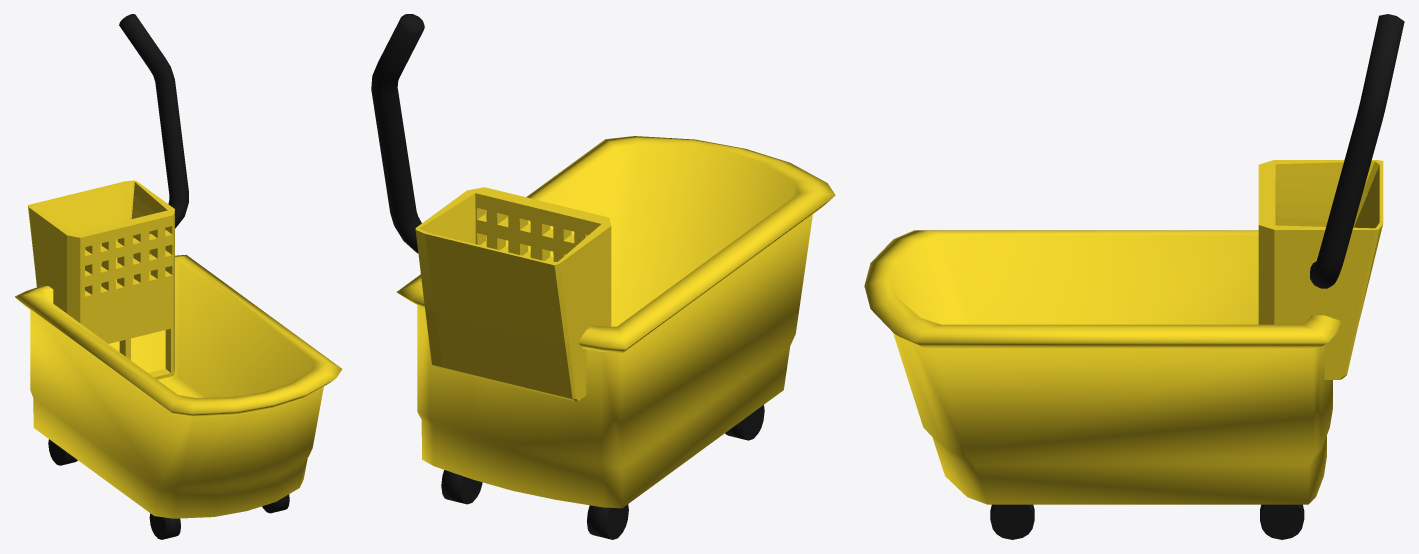
File: MopBucketEmpty.fbx
The picture shows the model from 3 angles, left to right: view 1: azimuth 30°, elevation 25°; view 2: azimuth 150°, elevation 25°; view 3: azimuth 270°, elevation 25°; orthographic projection. The views are drawn at different scales.
Parts seen in each view (by area): view 1: Cube; view 2: Cube; view 3: Cube.
Boxes of the visible parts, x1,y1,x2,y2 form: Cube: [15, 14, 342, 539]; Cube: [371, 14, 835, 539]; Cube: [864, 14, 1404, 539].
Bounding box in the file's own units: 137 × 295 × 277.
